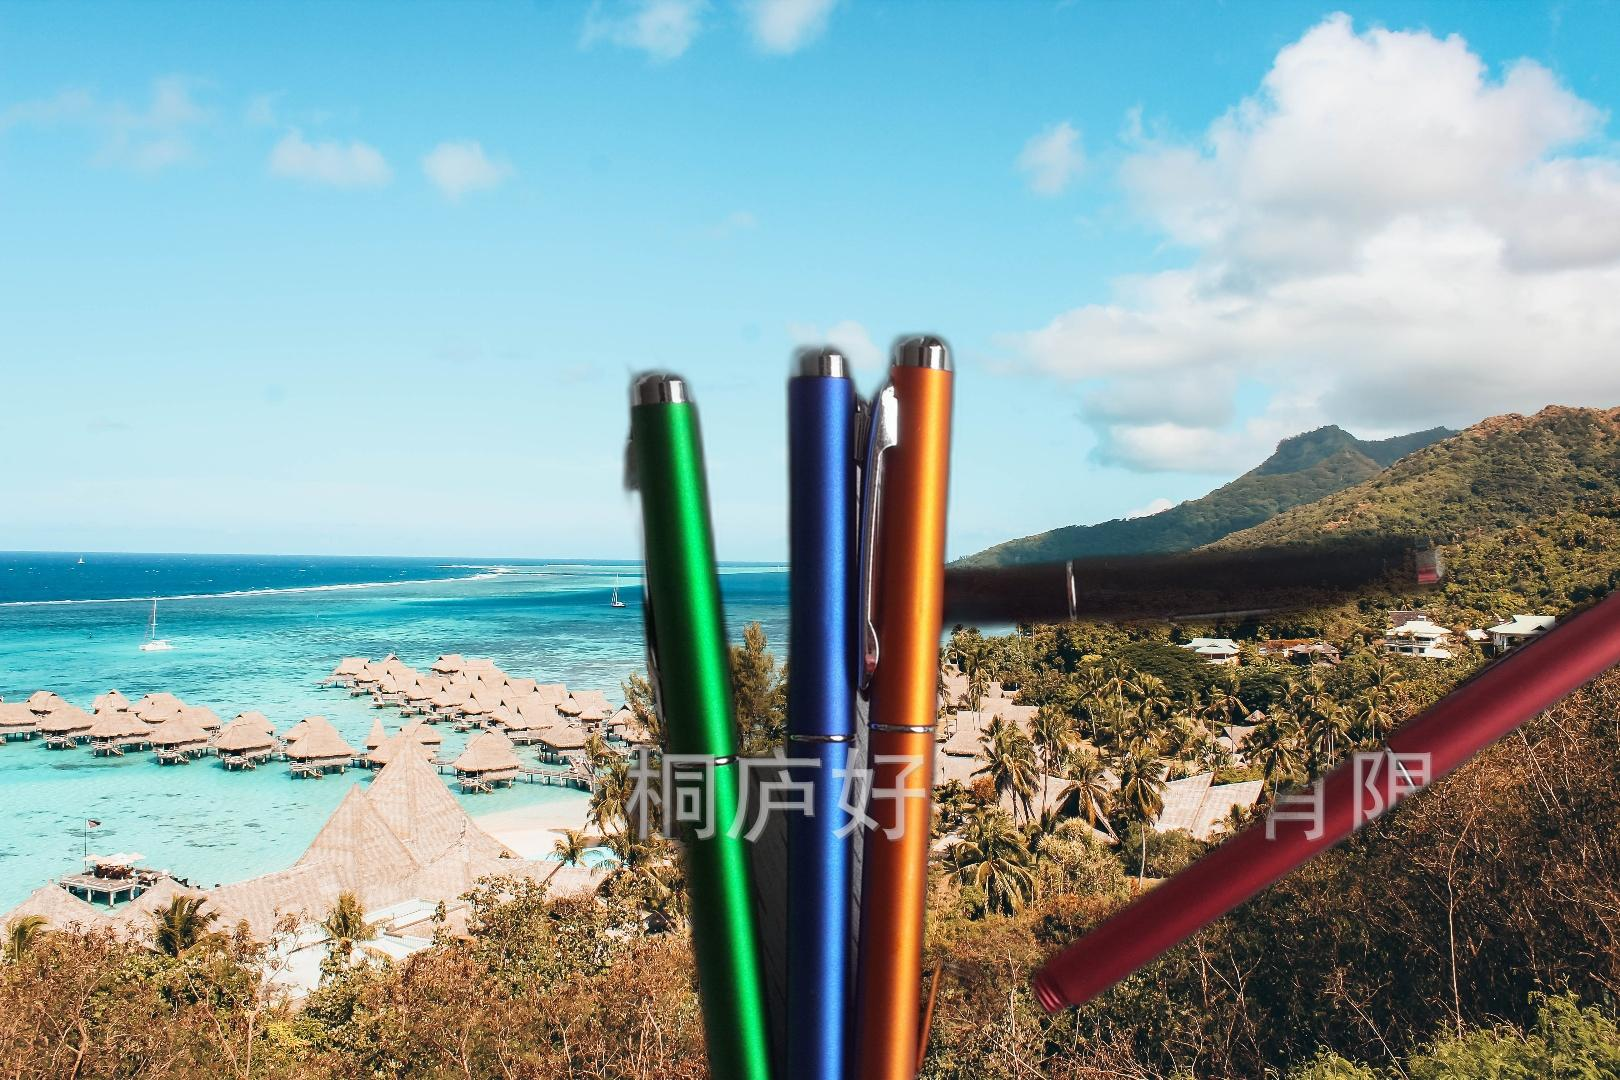paper: (1618, 65, 1620, 450)
penholder: (612, 318, 1620, 1080)
